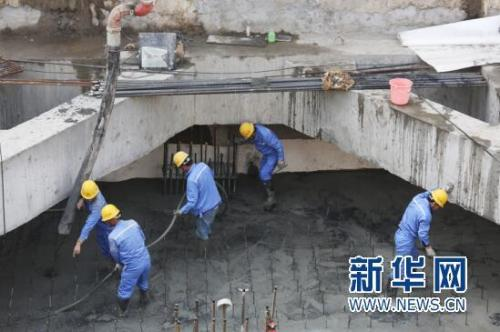boots: (260, 182, 278, 208), (111, 295, 129, 314), (138, 288, 151, 304)
gloves: (73, 237, 88, 258), (425, 244, 436, 258), (276, 160, 287, 168), (173, 208, 182, 216), (113, 263, 122, 271)
hard-hat: (80, 179, 99, 199), (101, 203, 121, 221), (431, 188, 448, 208), (173, 151, 189, 168), (239, 121, 254, 139)
person: (172, 150, 225, 261), (100, 202, 152, 312), (388, 186, 448, 278), (236, 121, 287, 210), (73, 179, 114, 262)
ppe-suit: (234, 120, 287, 209), (107, 218, 152, 301), (392, 191, 433, 259), (178, 161, 222, 217), (252, 123, 277, 176)
